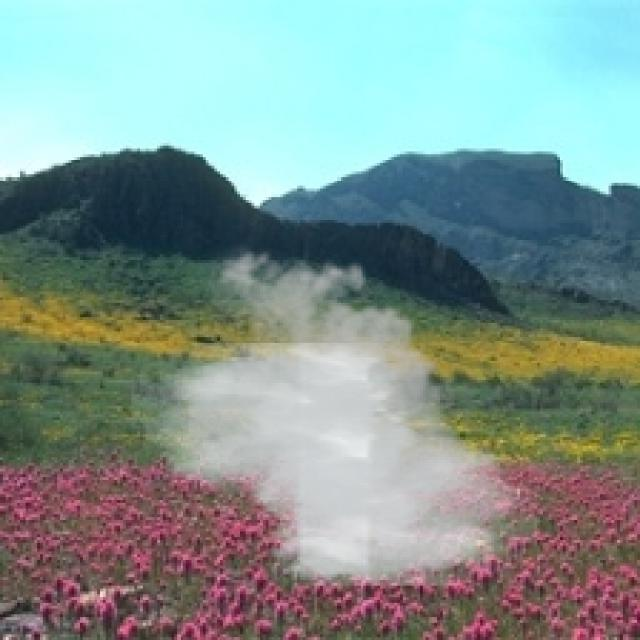Smoke: (132, 240, 537, 586)
